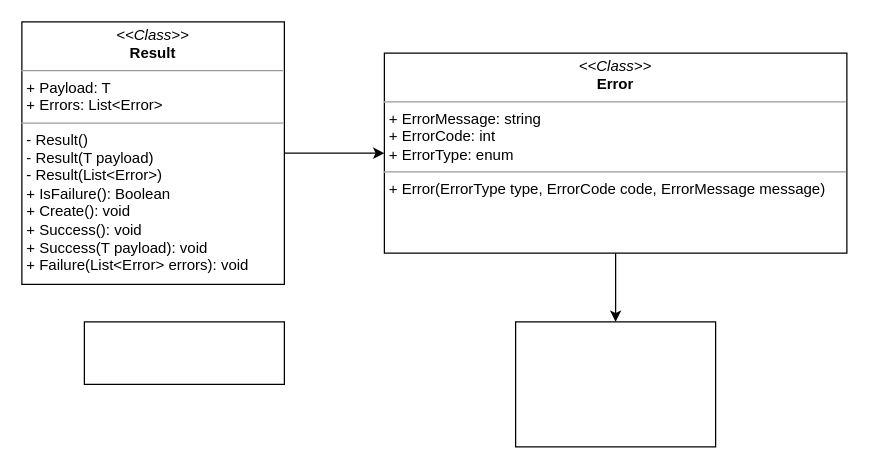
Some shapes in this 869 by 469 pixel diagram are drawn without their labels. Here are the shapes that lost their labels. From the top down, the centre of each, then its label:
At [183,352]: "<<Class>> None".
At [615,384]: "<<enum>> ErrorType + InvalidInput + NotFound".
